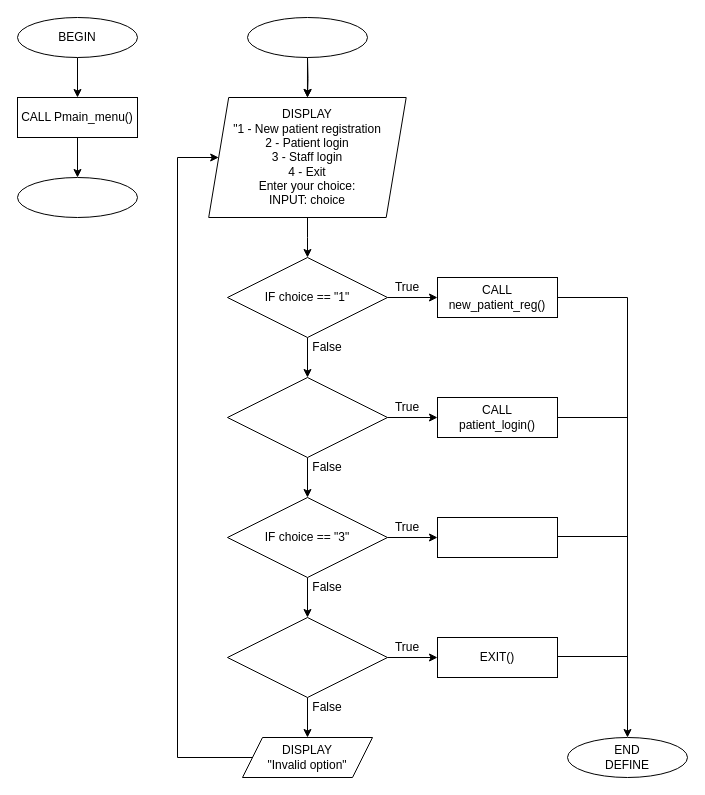
This 705x795 diagram has some shape labels left out. Each missing label, with the box of its shape:
CALL staff_login(): (436, 516, 558, 558)
DEFINE Pmain_menu(): (246, 16, 368, 58)
END: (16, 176, 138, 218)
IF choice == "2": (226, 376, 388, 458)
IF choice == "4": (226, 616, 388, 698)
